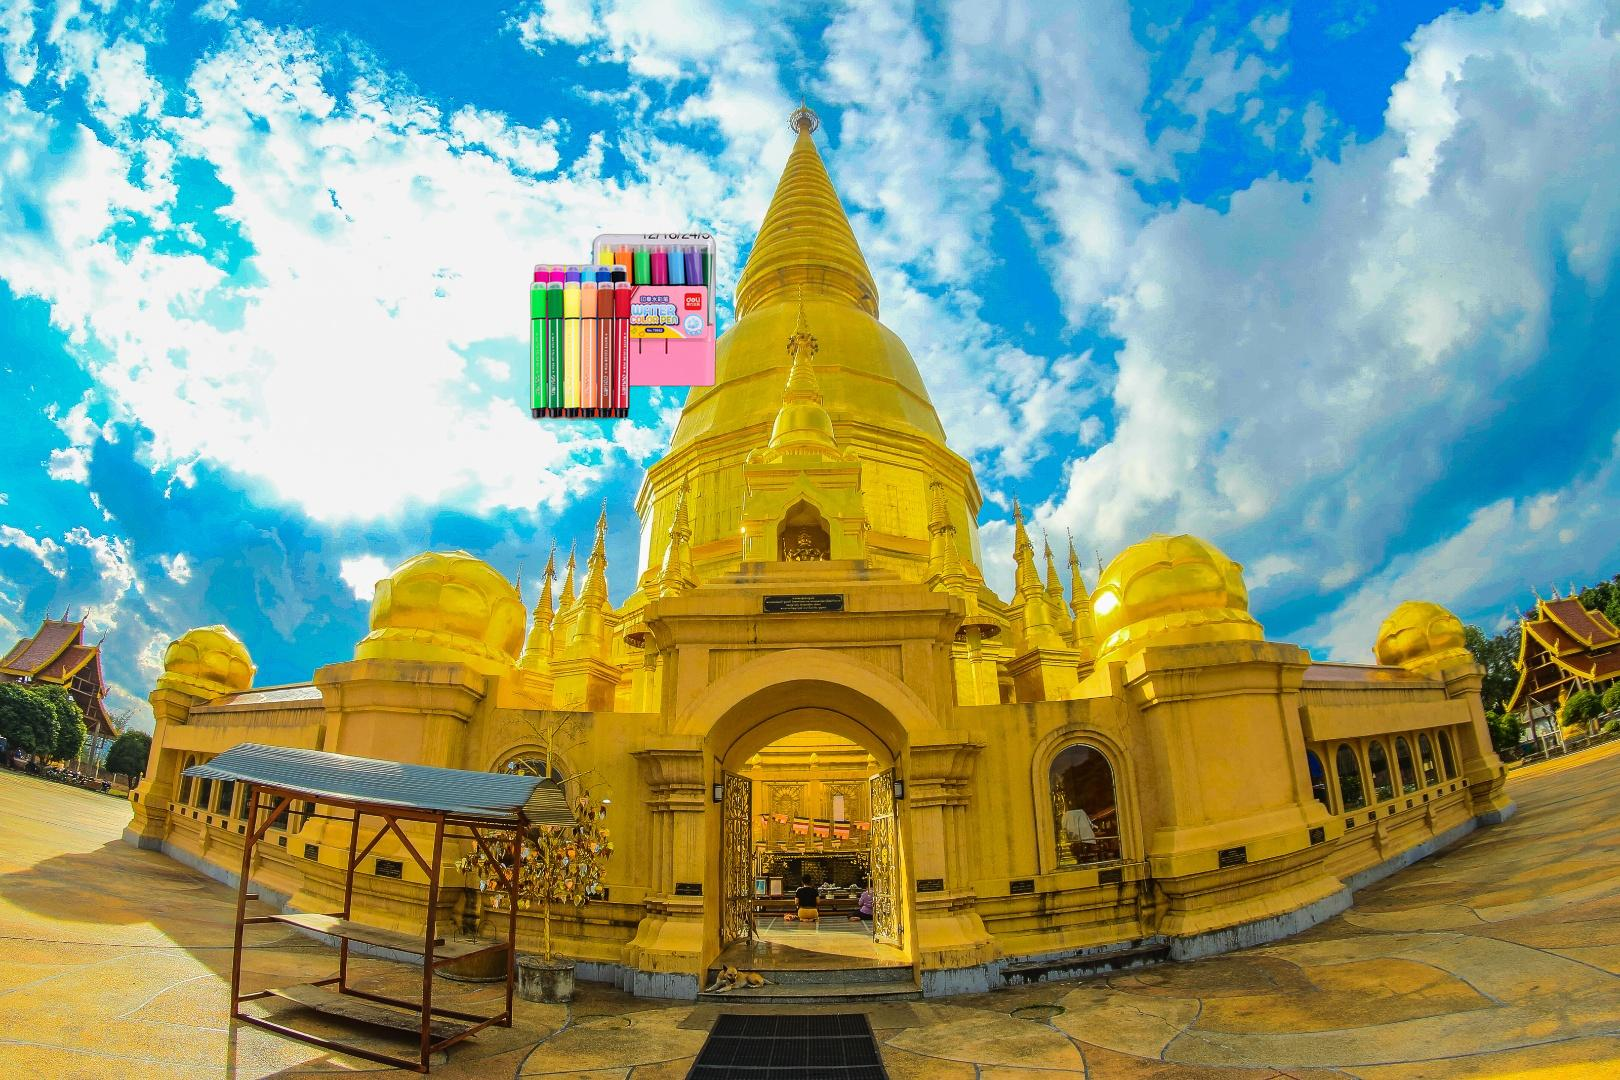penholder: (527, 227, 720, 421)
